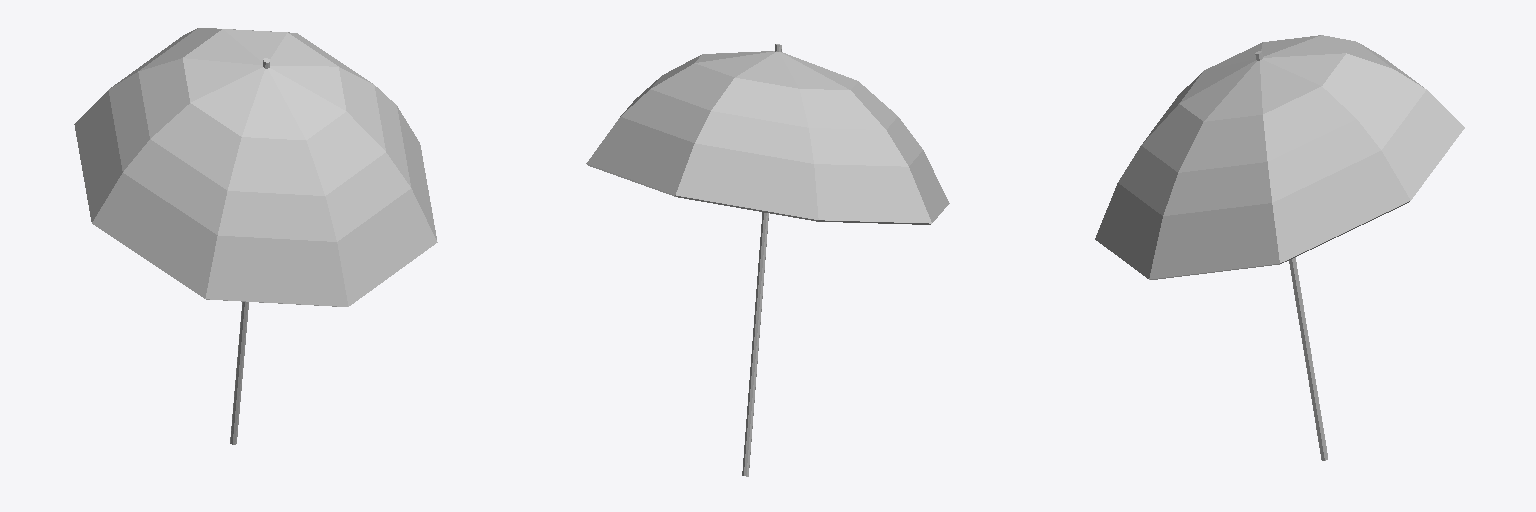
File: sombrinha.obj
3 views of the same model, side by side, from view 1: azimuth 30°, elevation 25°; view 2: azimuth 150°, elevation 25°; view 3: azimuth 270°, elevation 25° (orthographic).
Parts seen in each view (by area): view 1: Umbrella; view 2: Umbrella; view 3: Umbrella.
Part boxes in pixels (left/top/right/bottom): Umbrella: left=74, top=28, right=437, bottom=444; Umbrella: left=586, top=44, right=949, bottom=476; Umbrella: left=1095, top=35, right=1464, bottom=460.
Bounding box in the file's own units: 4.83 × 5.74 × 4.71.